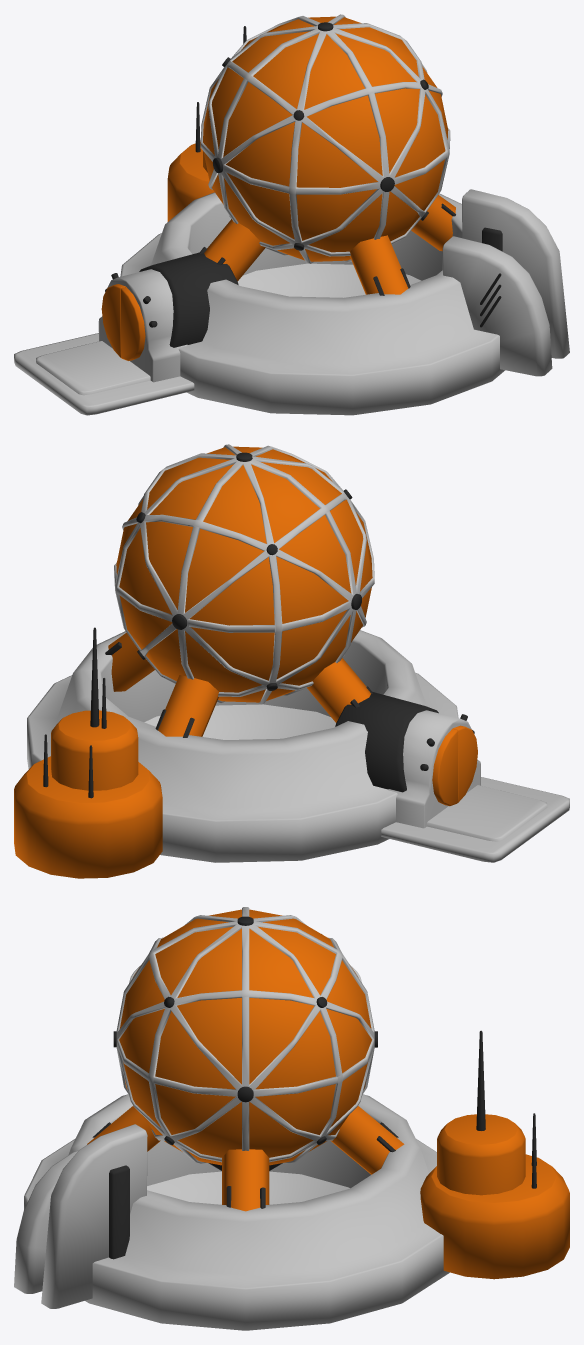
3 renders of one model, top to bottom at view 1: azimuth 30°, elevation 25°; view 2: azimuth 150°, elevation 25°; view 3: azimuth 270°, elevation 25°, orthographic. The views are drawn at different scales.
Visible parts, largest first — view 1: Research_center.003; view 2: Research_center.003; view 3: Research_center.003.
Boxes of the visible parts, <box> form: Research_center.003: <box>14,14,569,415</box>; Research_center.003: <box>14,444,569,878</box>; Research_center.003: <box>14,907,569,1330</box>.
Bounding box in the file's own units: 19.57 × 12.26 × 19.46.
